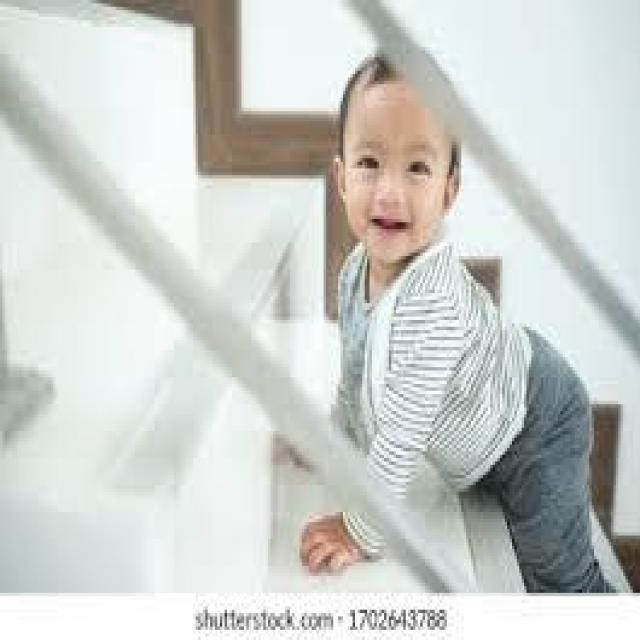child: (278, 37, 616, 589)
